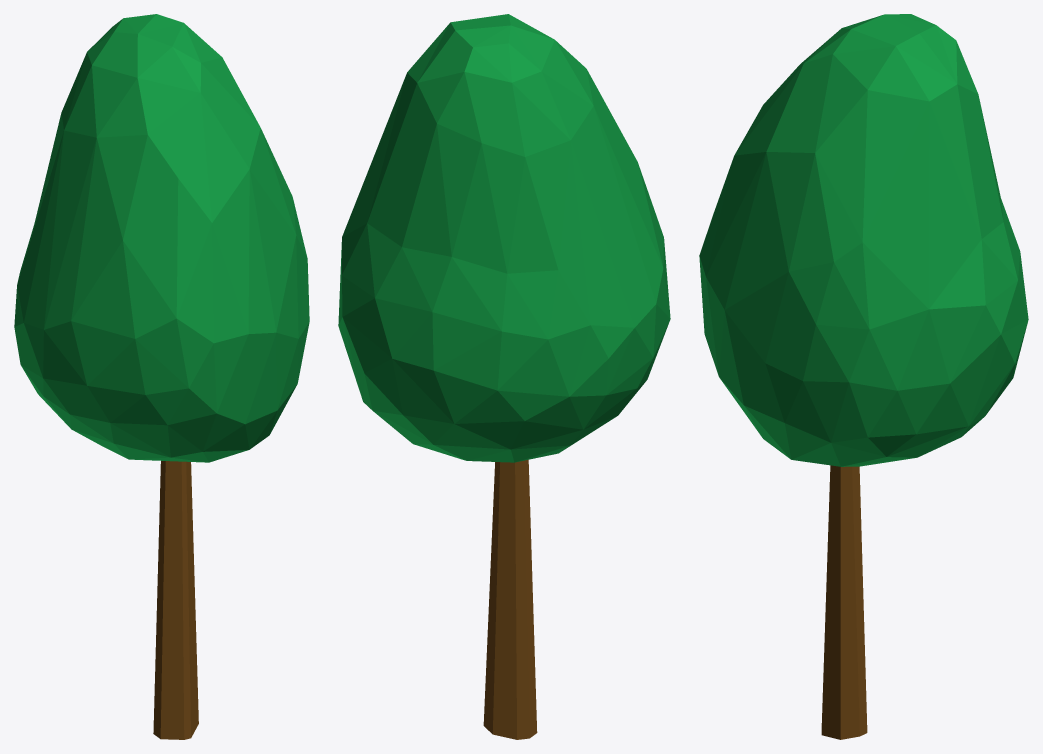
File: Tree2.fbx
3 views of the same model, side by side, from view 1: azimuth 30°, elevation 25°; view 2: azimuth 150°, elevation 25°; view 3: azimuth 270°, elevation 25° (orthographic). The views are drawn at different scales.
Visible parts, largest first — view 1: Icosphere; view 2: Icosphere; view 3: Icosphere.
Boxes of the visible parts, <box> form: Icosphere: <box>14,14,309,739</box>; Icosphere: <box>338,14,670,739</box>; Icosphere: <box>699,14,1028,739</box>.
Bounding box in the file's own units: 103 × 252 × 106.
